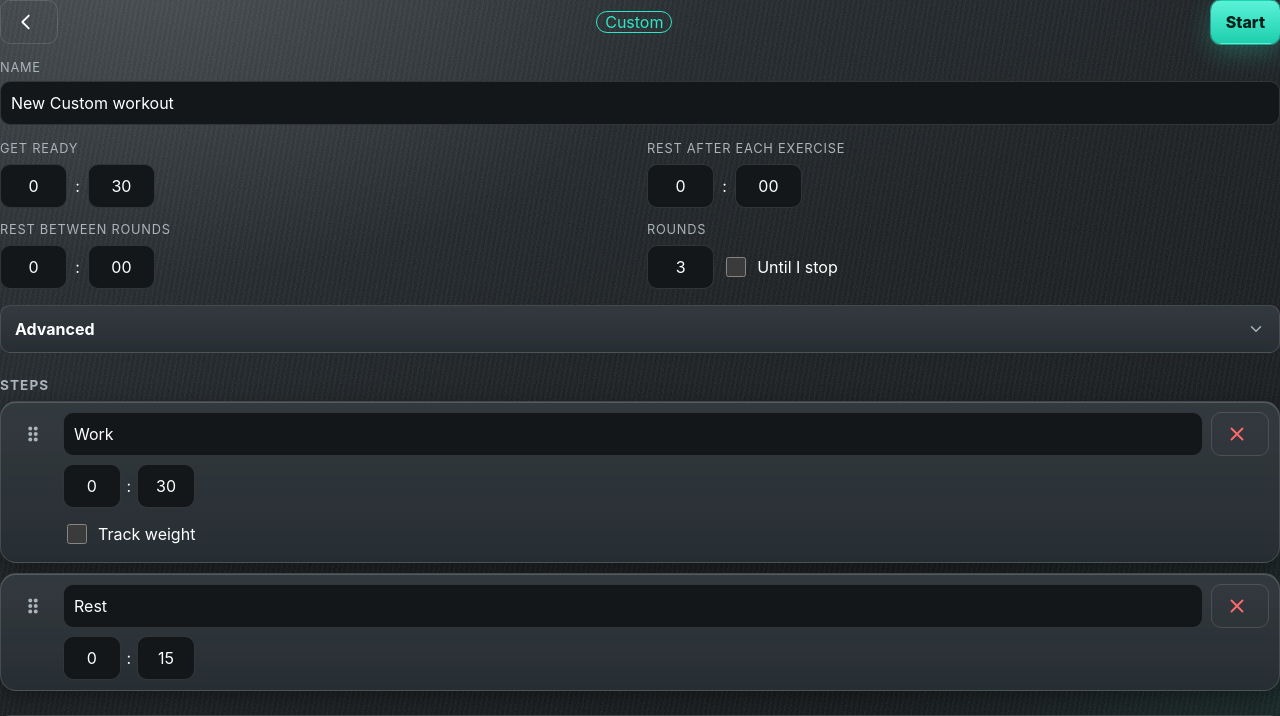
Test: Editor validation and leaving › a workout with no steps shows an error
Click the 2nd button named "Remove step 1": [1240, 434] box [1211,412,1269,456]
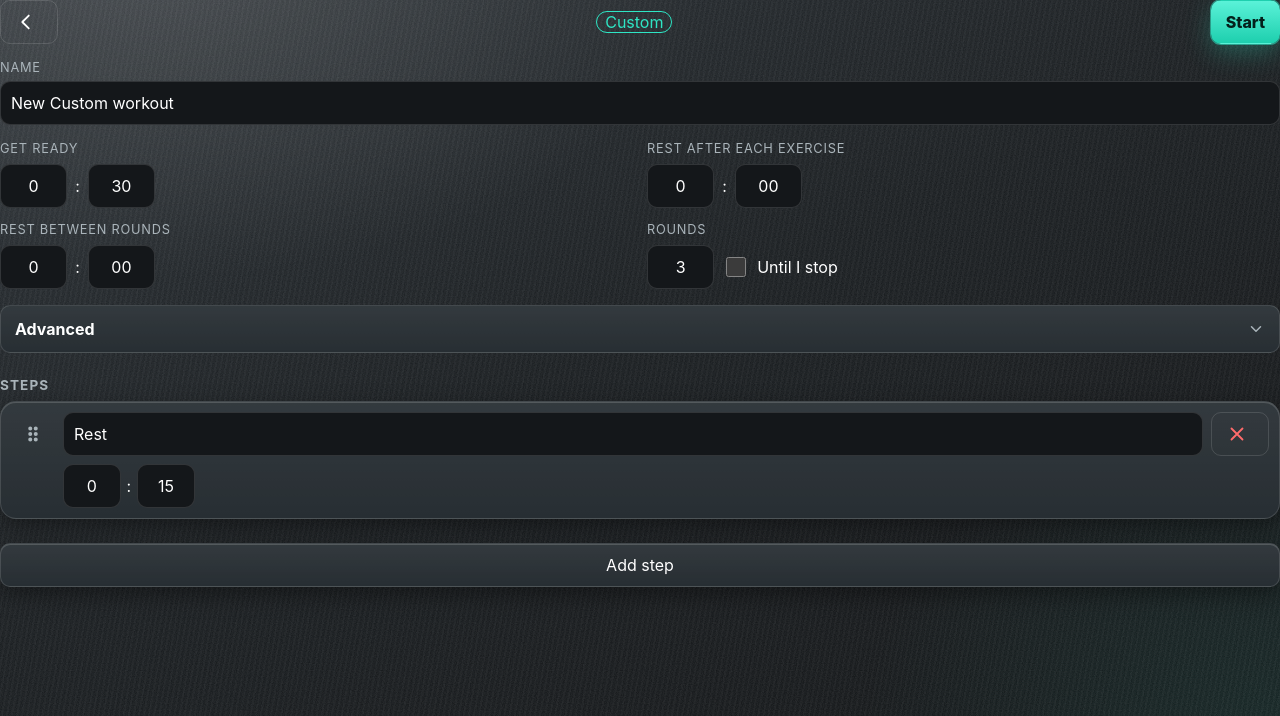
Click the 2nd button named "Remove step 1": [1240, 434] box [1211,412,1269,456]
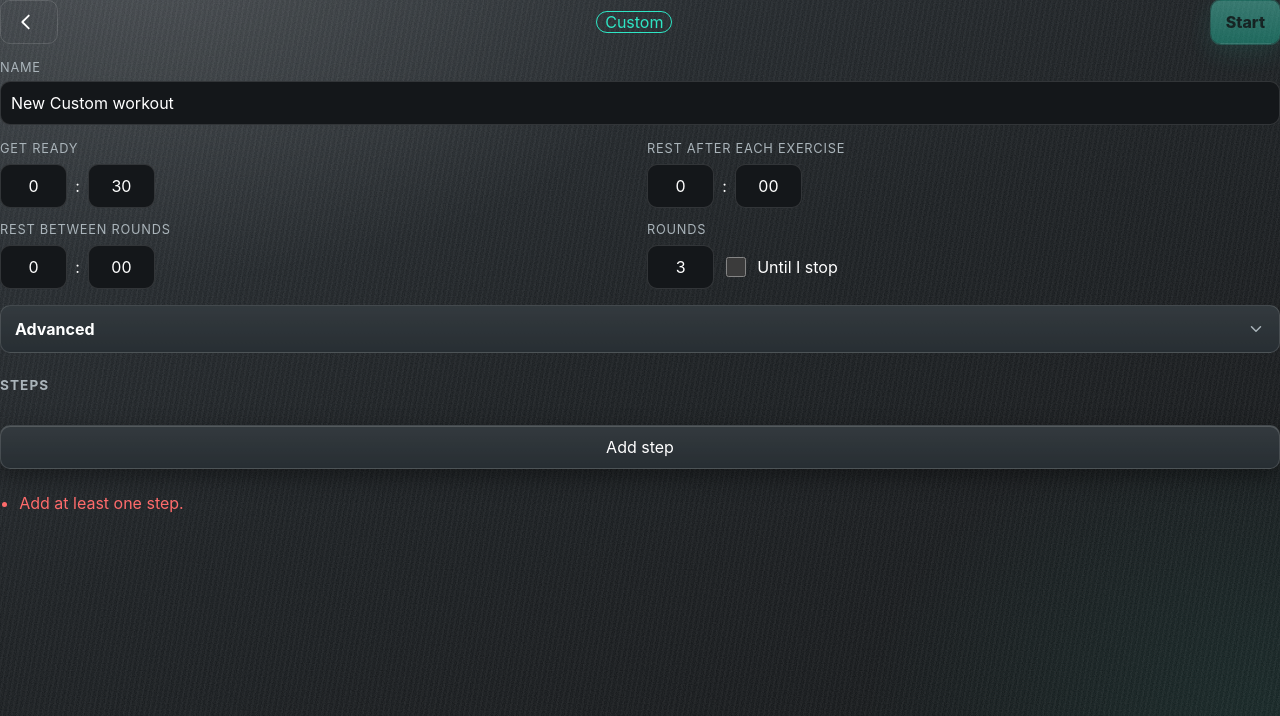
Expected: the list item "Add at least one step." is shown, [19,493,184,513]
Expected: the button "Start" is disabled, [1211,0,1279,44]
